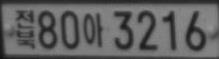0: (59, 9, 80, 49)
1: (160, 10, 181, 50)
2: (136, 9, 158, 50)
3: (112, 10, 134, 50)
6: (184, 10, 206, 51)
8: (37, 9, 57, 49)
아: (82, 11, 104, 48)
전북_V: (14, 9, 36, 49)
